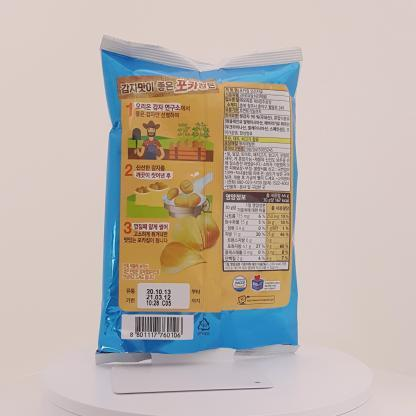Plastic Packaging: (86, 27, 318, 381)
